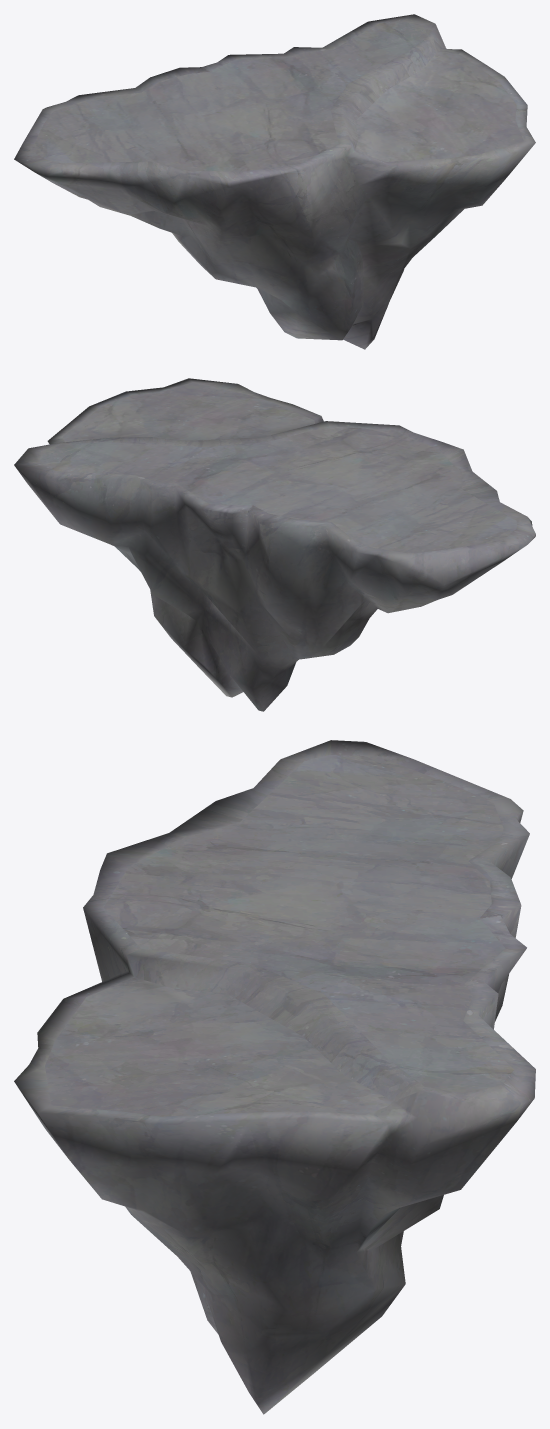
File: Stages_MD_SDLStone07.fbx
3 views of the same model, one above another, from view 1: azimuth 30°, elevation 25°; view 2: azimuth 150°, elevation 25°; view 3: azimuth 270°, elevation 25° (orthographic). The views are drawn at different scales.
Visible parts, largest first — view 1: Stages_MD_SDLStone07_Lod1; view 2: Stages_MD_SDLStone07_Lod1; view 3: Stages_MD_SDLStone07_Lod1.
Boxes of the visible parts, x1=… form: Stages_MD_SDLStone07_Lod1: x1=14, y1=14, x2=535, y2=349; Stages_MD_SDLStone07_Lod1: x1=14, y1=378, x2=535, y2=711; Stages_MD_SDLStone07_Lod1: x1=14, y1=740, x2=535, y2=1414.
Size of the model in its own units: 62.78 by 33.27 by 37.19.
1 material, 1 textured.
